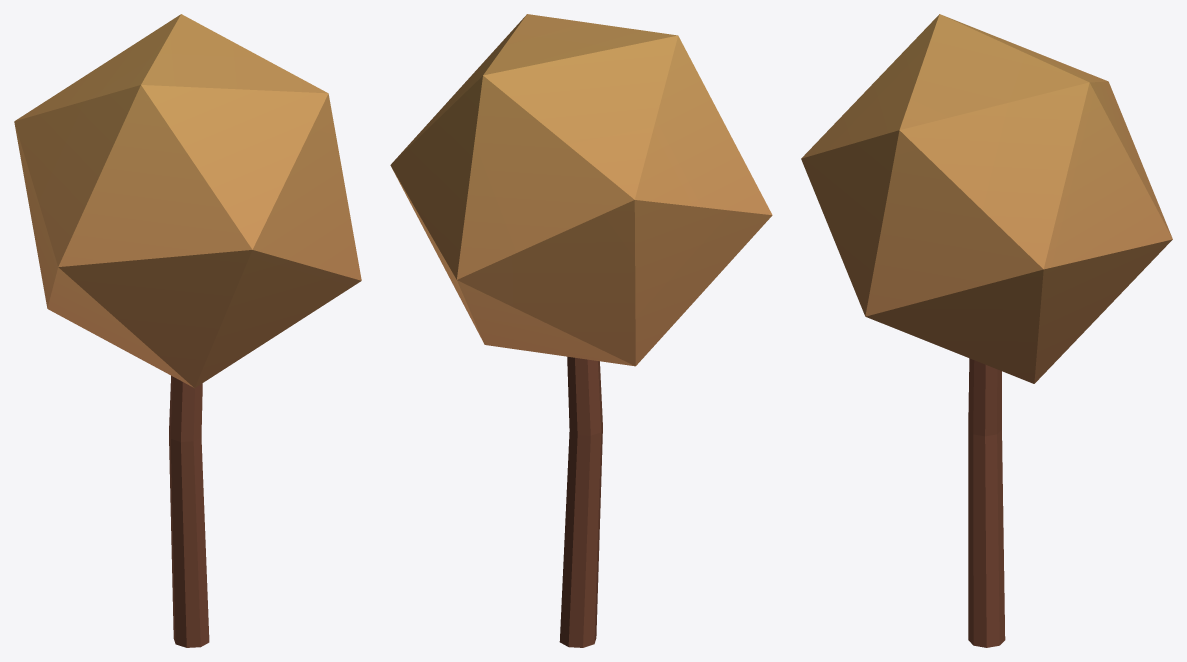
Rendered from Tree_40_gradient_yellow_vc.fbx.
3 renders of one model, left to right at view 1: azimuth 30°, elevation 25°; view 2: azimuth 150°, elevation 25°; view 3: azimuth 270°, elevation 25°, orthographic. The views are drawn at different scales.
Parts seen in each view (by area): view 1: Tree_40_gradient_yellow_vc; view 2: Tree_40_gradient_yellow_vc; view 3: Tree_40_gradient_yellow_vc.
Part boxes in pixels (box(x1,y1,x2,y2)): Tree_40_gradient_yellow_vc: box(14, 14, 361, 647); Tree_40_gradient_yellow_vc: box(390, 14, 772, 647); Tree_40_gradient_yellow_vc: box(801, 14, 1172, 647).
Size of the model in its own units: 110 by 196 by 112.
